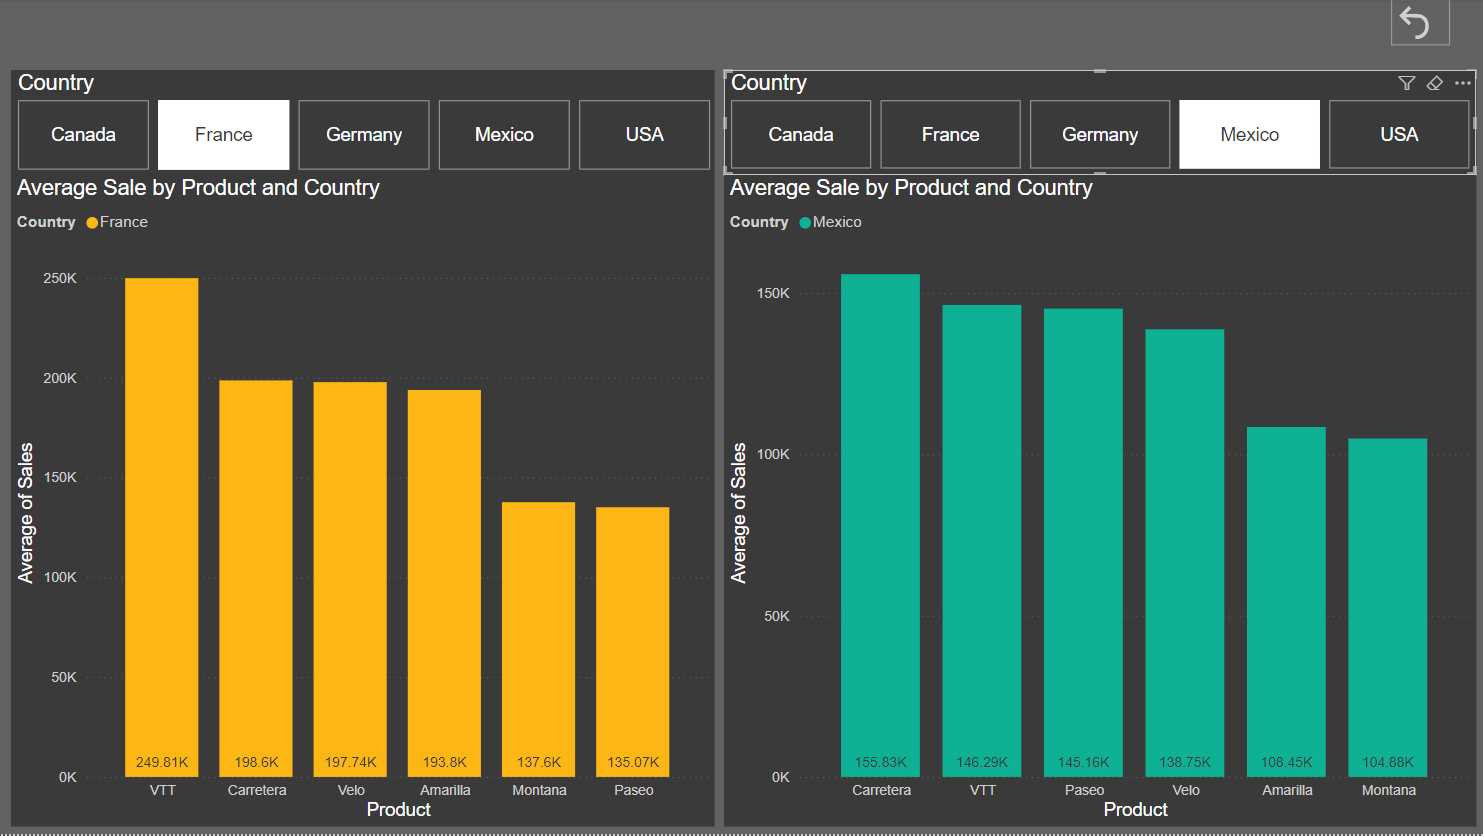

The page's visual inventory and layout, read from the dashboard file:
{"tool":"powerbi","page":{"name":"Page 4","canvas":[1280,720],"ordinal":3},"visuals":[{"type":"advancedSlicerVisual","fields":{"Values":["Sheet1.Country"]},"box":[624.5,61.2,648.6,90.6],"z":1000},{"type":"columnChart","title":"Average Sale by Product and Country","fields":{"Y":["Avg(Sheet1. Sales)"],"Category":["Sheet1.Product"],"Series":["Sheet1.Country"]},"box":[9.5,151.8,607.2,561.5],"z":3000},{"type":"actionButton","box":[1199.4,0,51,40.3],"z":4000},{"type":"advancedSlicerVisual","fields":{"Values":["Sheet1.Country"]},"box":[9.5,61.2,607.2,91.4],"z":5000},{"type":"columnChart","title":"Average Sale by Product and Country","fields":{"Y":["Avg(Sheet1. Sales)"],"Category":["Sheet1.Product"],"Series":["Sheet1.Country"]},"box":[624.5,151.8,648.6,561.5],"z":6000}]}

Visuals, with their boxes in screenshot pixels (x1, y1, x2, y2), scaled from the page's 1280x720 canvas onto the 1483x836 screenshot:
advancedSlicerVisual - Sheet1.Country: pyautogui.locateOnScreen(724, 71, 1475, 176)
"Average Sale by Product and Country" columnChart: pyautogui.locateOnScreen(11, 176, 715, 828)
actionButton: pyautogui.locateOnScreen(1390, 0, 1449, 47)
advancedSlicerVisual - Sheet1.Country: pyautogui.locateOnScreen(11, 71, 715, 177)
"Average Sale by Product and Country" columnChart: pyautogui.locateOnScreen(724, 176, 1475, 828)
